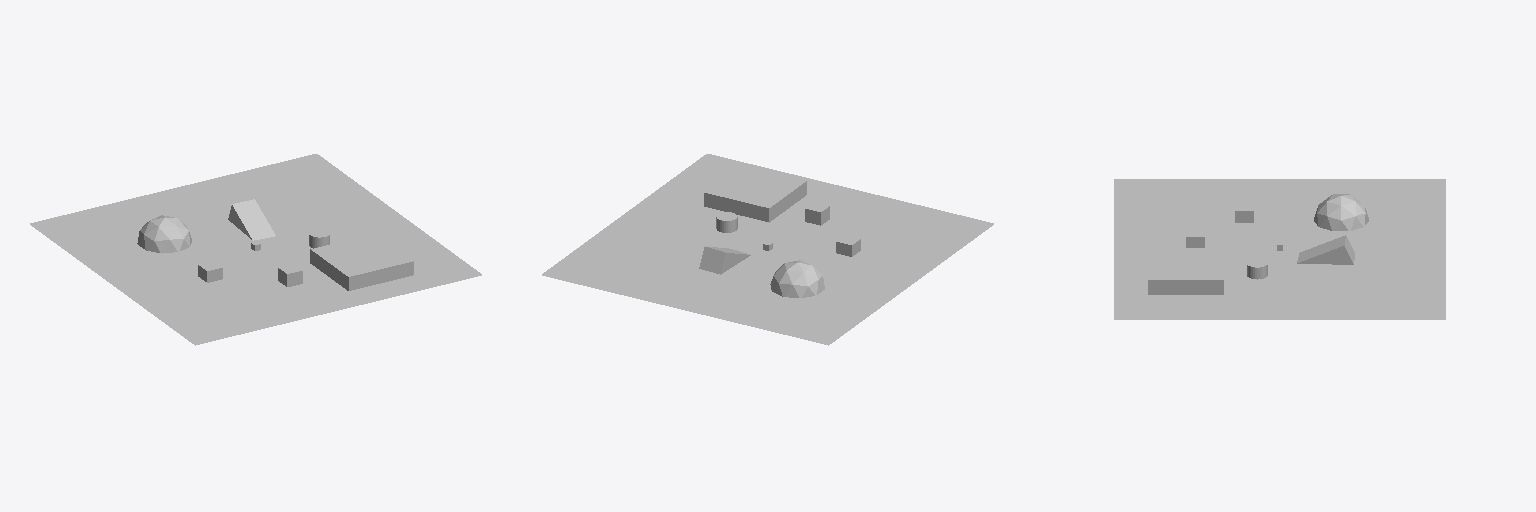
Rendered from map2.obj.
The picture shows the model from 3 angles: view 1: azimuth 30°, elevation 25°; view 2: azimuth 150°, elevation 25°; view 3: azimuth 270°, elevation 25°; orthographic projection.
Visible parts, largest first — view 1: Plane, Cube.004, Icosphere, Cube.003; view 2: Plane, Cube.004, Icosphere, Cube.003; view 3: Plane, Cube.004, Icosphere, Cube.003.
Boxes of the visible parts, box(x1,y1,x2,y2) form: Plane: box(30, 154, 481, 345); Cube.004: box(310, 233, 413, 290); Icosphere: box(137, 215, 191, 253); Cube.003: box(228, 199, 275, 240); Plane: box(542, 154, 993, 345); Cube.004: box(704, 165, 806, 222); Icosphere: box(770, 260, 824, 297); Cube.003: box(699, 246, 750, 274); Plane: box(1114, 179, 1445, 319); Cube.004: box(1148, 248, 1223, 294); Icosphere: box(1314, 194, 1368, 230); Cube.003: box(1297, 235, 1354, 264).
Size of the model in its own units: 100 by 20.42 by 100.